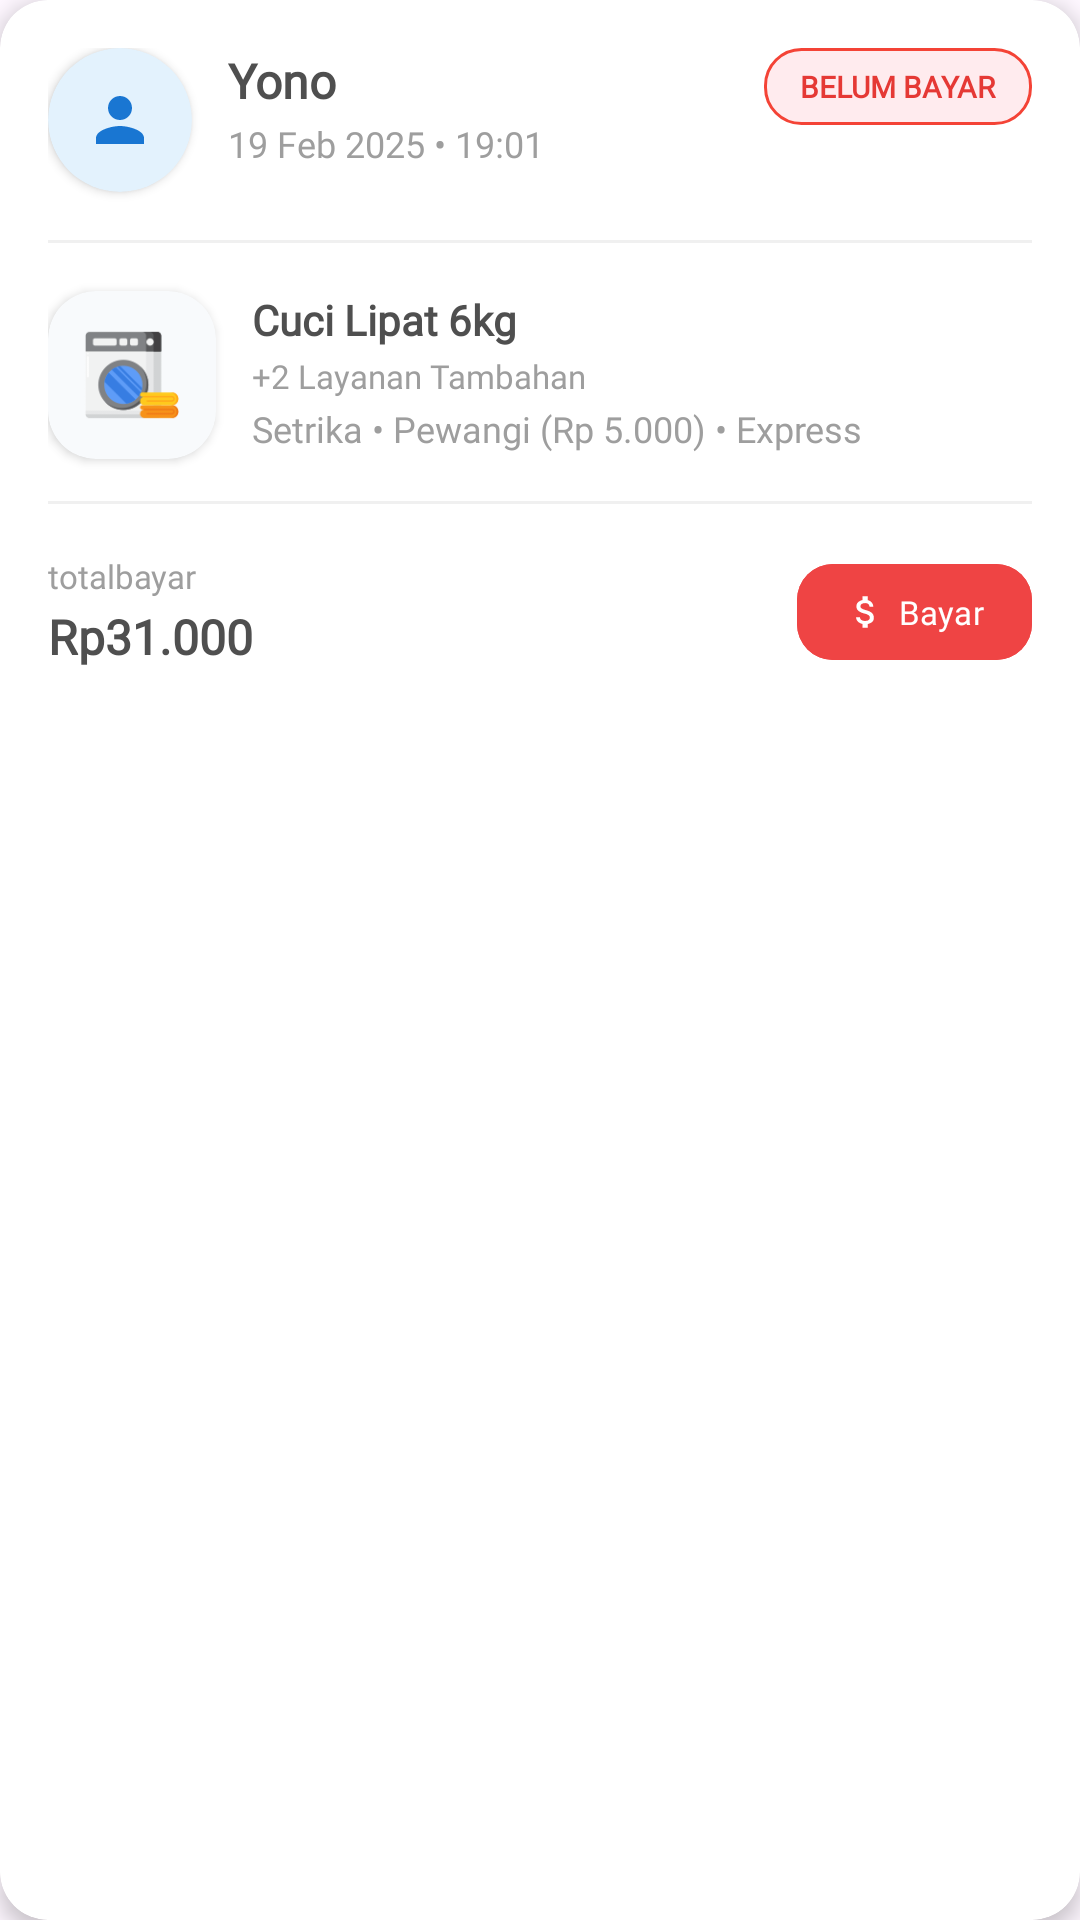

Icons on this 1080px x 1920px Android screen, each with its box as detection(x1, y1, x2, y2):
mesincuci: detection(85, 331, 179, 419)
person: detection(96, 96, 144, 144)
